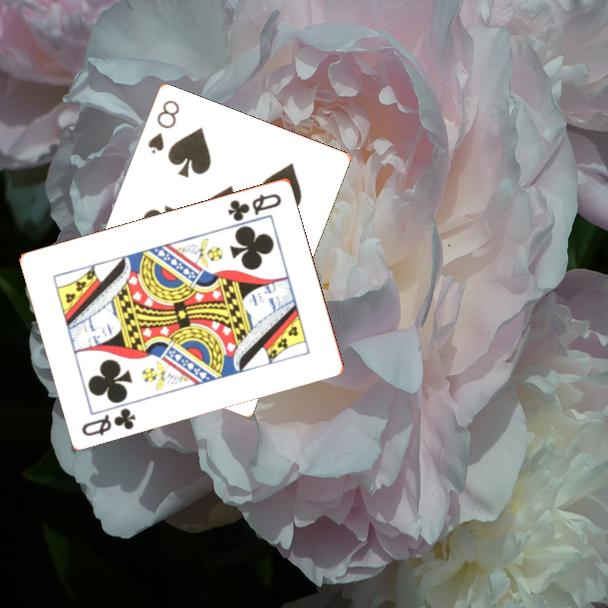c12: (78, 404, 139, 439), (225, 190, 285, 224)
s08: (144, 97, 183, 157)
